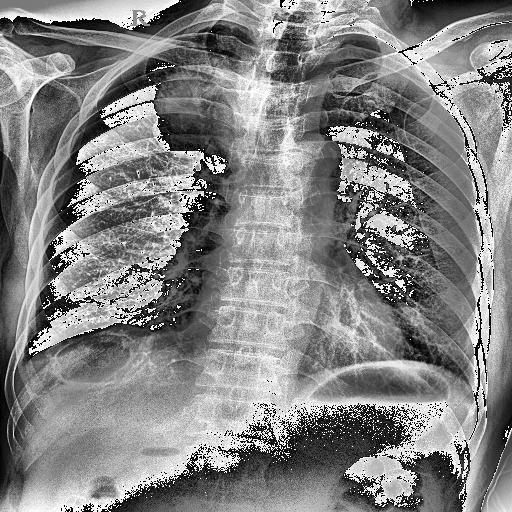5- ILD: (28, 268, 200, 366), (354, 317, 474, 383)
8- Nodule-Mass: (120, 12, 280, 180), (138, 50, 280, 170), (140, 50, 272, 170)
